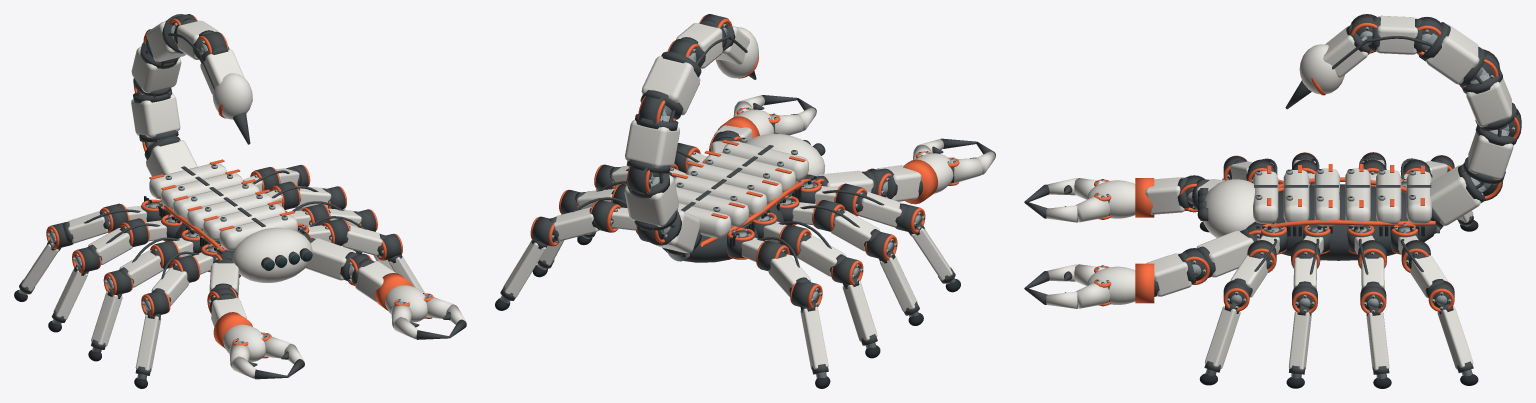
File: telson-sc8-v1.glb
The picture shows the model from 3 angles, left to right: view 1: azimuth 30°, elevation 25°; view 2: azimuth 150°, elevation 25°; view 3: azimuth 270°, elevation 25°; orthographic projection. The views are drawn at different scales.
Visible parts, largest first — view 1: SC_body, SC_claw_R, SC_leg_L2, SC_leg_L1, SC_leg_L0, SC_leg_L3, SC_head, SC_claw_L, SC_tail_joint_5, SC_leg_R0, SC_tail_joint_1, SC_tail_joint_2 (+10 smaller); view 2: SC_body, SC_leg_L3, SC_leg_L2, SC_leg_L1, SC_leg_R3, SC_leg_L0, SC_claw_L, SC_tail_joint_3, SC_tail_joint_2, SC_tail_joint_1, SC_tail_joint_5, SC_tail_joint_4 (+10 smaller); view 3: SC_body, SC_claw_R, SC_leg_R3, SC_leg_R0, SC_claw_L, SC_leg_R2, SC_tail_joint_5, SC_leg_R1, SC_tail_joint_3, SC_head, SC_tail_joint_2, SC_tail_joint_1 (+10 smaller).
Boxes of the visible parts, box(x1,y1,x2,y2) form: SC_body: box(144, 159, 304, 253); SC_claw_R: box(298, 232, 427, 322); SC_leg_L2: box(48, 214, 182, 332); SC_leg_L1: box(88, 229, 203, 361); SC_leg_L0: box(134, 243, 225, 388); SC_leg_L3: box(14, 199, 165, 301); SC_head: box(232, 227, 312, 282); SC_claw_L: box(207, 250, 265, 361); SC_tail_joint_5: box(198, 31, 252, 144); SC_leg_R0: box(297, 216, 431, 318); SC_tail_joint_1: box(131, 89, 180, 151); SC_tail_joint_2: box(131, 42, 181, 98); SC_body: box(662, 137, 816, 262); SC_leg_L3: box(727, 227, 830, 388); SC_leg_L2: box(752, 211, 880, 358); SC_leg_L1: box(776, 195, 923, 325); SC_leg_R3: box(495, 197, 637, 310); SC_leg_L0: box(794, 179, 960, 292); SC_claw_L: box(803, 153, 953, 204); SC_tail_joint_3: box(638, 51, 701, 124); SC_tail_joint_2: box(625, 114, 679, 194); SC_tail_joint_1: box(624, 173, 678, 244); SC_tail_joint_5: box(699, 14, 758, 79); SC_tail_joint_4: box(667, 19, 729, 68); SC_body: box(1253, 164, 1439, 260); SC_claw_R: box(1087, 221, 1267, 304); SC_leg_R3: box(1391, 223, 1478, 385); SC_leg_R0: box(1199, 223, 1287, 385); SC_claw_L: box(1087, 175, 1224, 218); SC_leg_R2: box(1347, 225, 1391, 388); SC_tail_joint_5: box(1285, 14, 1377, 109); SC_leg_R1: box(1286, 225, 1330, 388); SC_tail_joint_3: box(1418, 22, 1499, 89); SC_head: box(1197, 179, 1254, 237); SC_tail_joint_2: box(1462, 68, 1521, 140); SC_tail_joint_1: box(1463, 125, 1516, 200).
Bounding box in the file's own units: 5.12 × 4.17 × 6.47.
